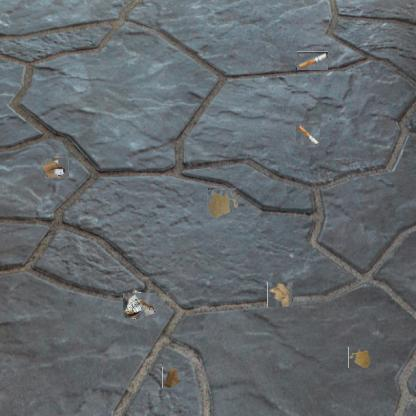dirty: (125, 290, 155, 320), (267, 282, 293, 307), (42, 156, 68, 181), (296, 51, 328, 70), (297, 124, 319, 146), (162, 366, 181, 388)
liquid: (207, 189, 237, 219), (348, 346, 371, 368)
